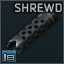AR-10 Keeno Arms SHREWD 7.62x51 muzzle brake: (0, 0, 64, 64)
